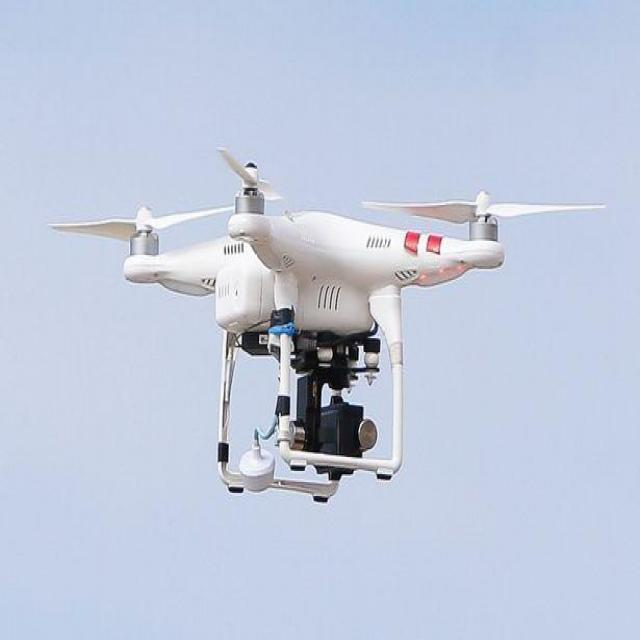UAV: (120, 168, 507, 506)
